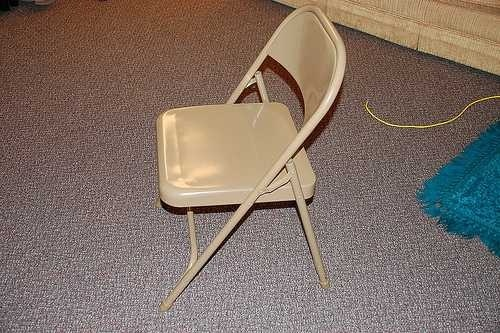obstacle: (157, 6, 345, 310)
